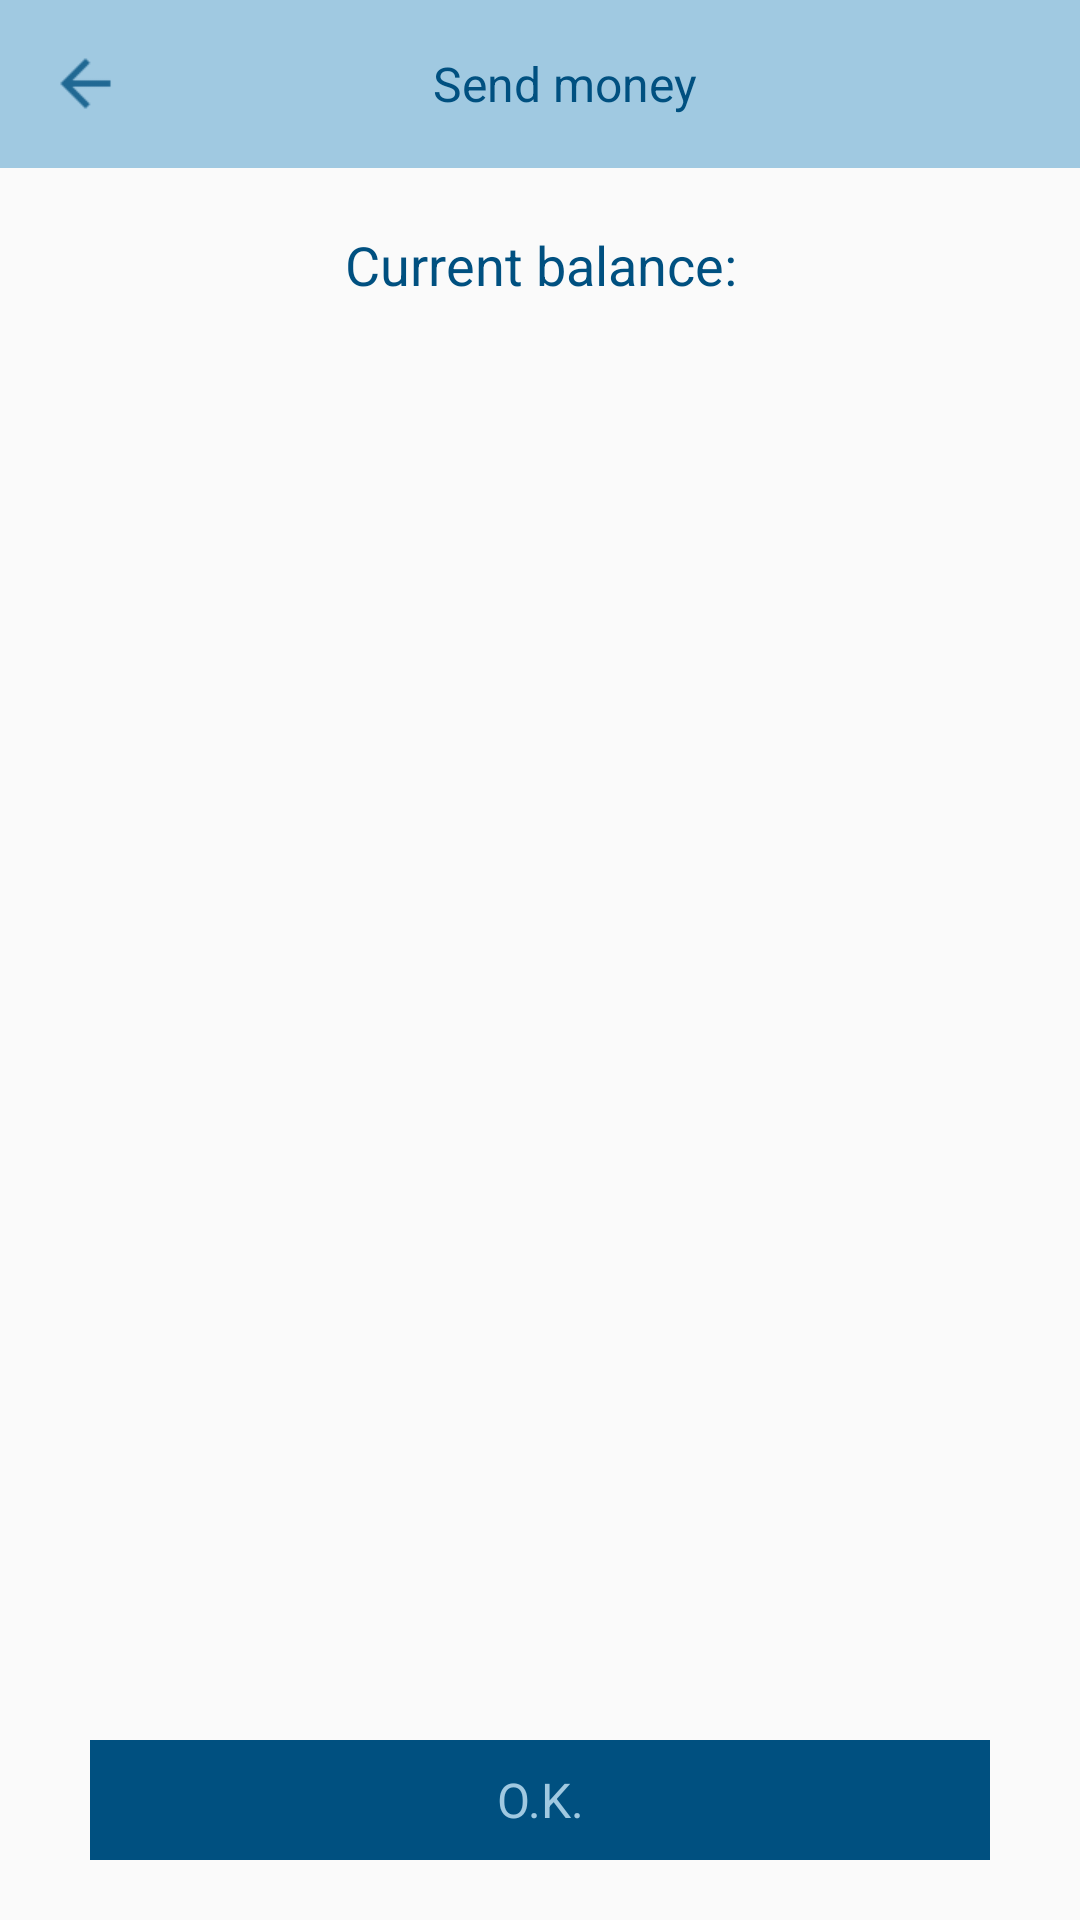

Screen size 1080×1920. Icon name, then its center in pixels as (x,y):
arrow back: (85,83)
